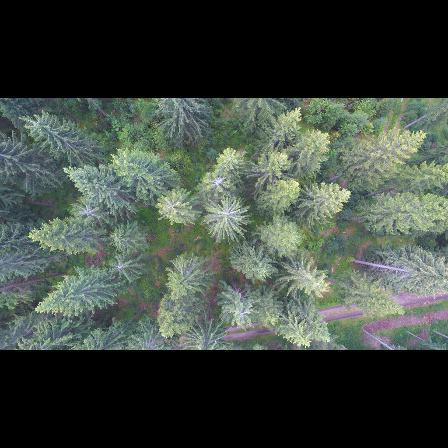Sick: (100, 256, 139, 282), (197, 170, 228, 196), (70, 198, 101, 224), (159, 191, 185, 214)
